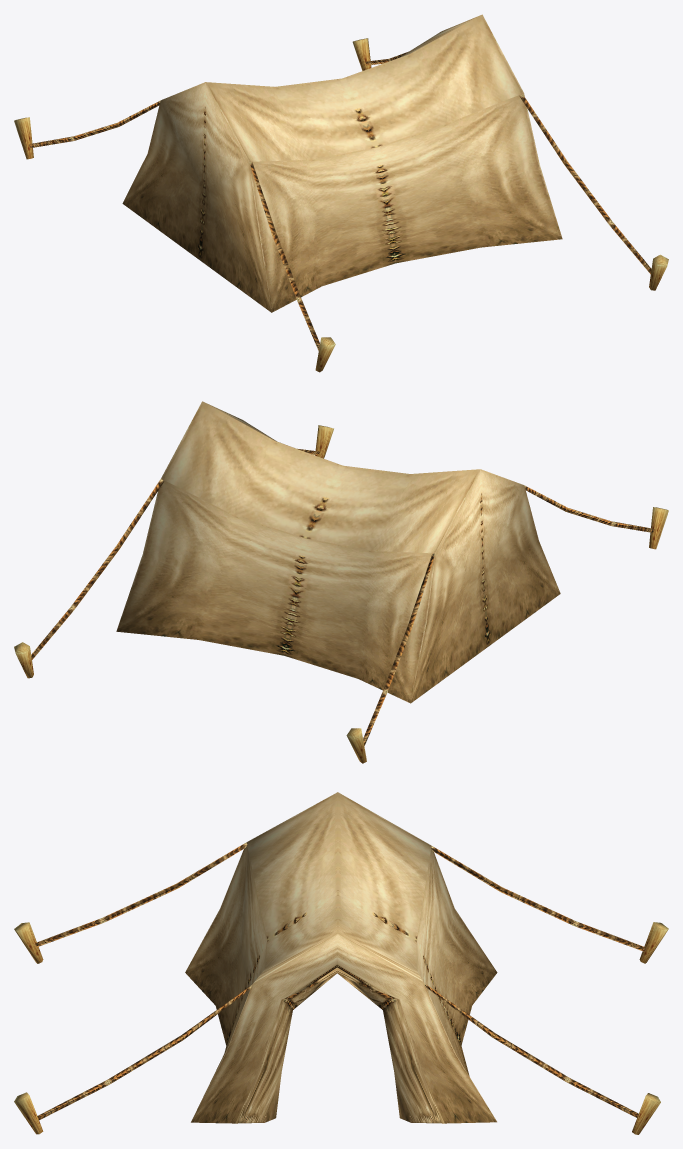
The model's file is humantentmedium.glb.
3 renders of one model, top to bottom at view 1: azimuth 30°, elevation 25°; view 2: azimuth 150°, elevation 25°; view 3: azimuth 270°, elevation 25°, orthographic. The views are drawn at different scales.
Size of the model in its own units: 8.8 by 4.26 by 13.61.
Materials: 2 (2 with a texture image).
